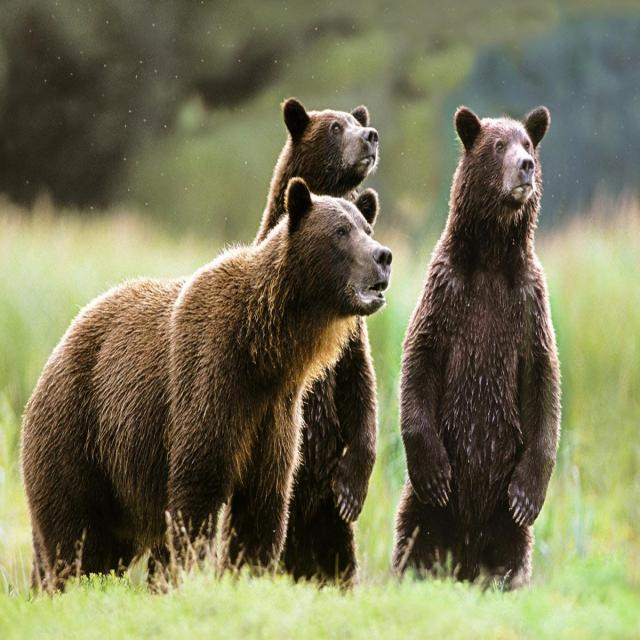Bear: (21, 180, 393, 596), (392, 108, 563, 594), (257, 101, 378, 243)
